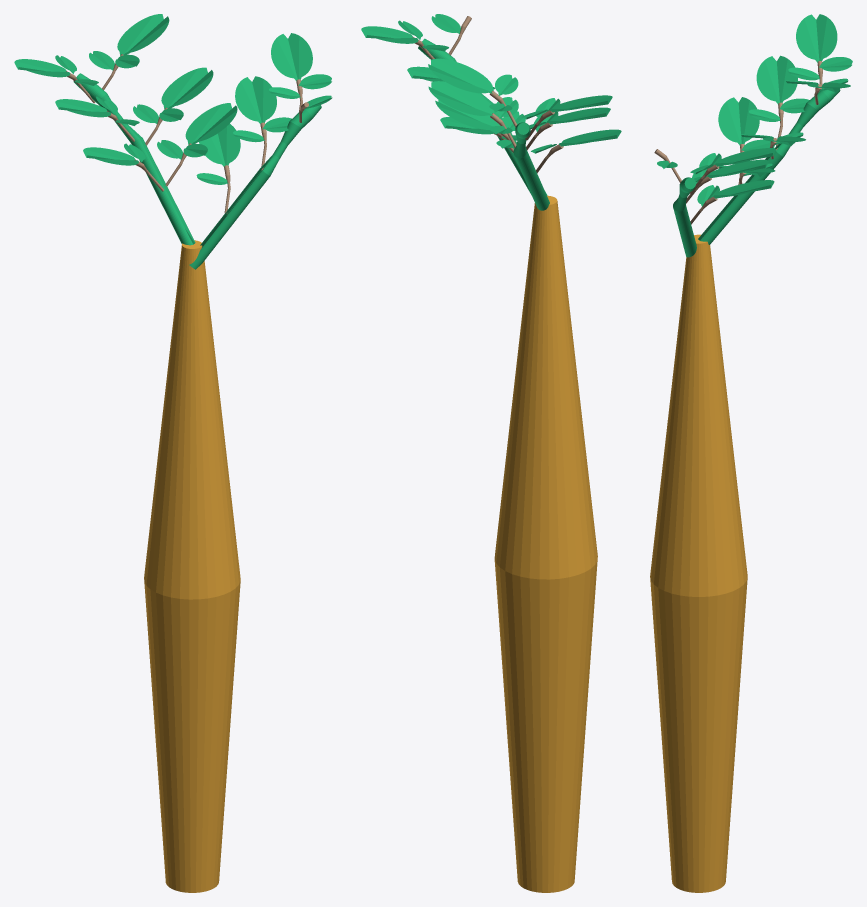
The model's file is wortel2.fbx.
The picture shows the model from 3 angles, left to right: view 1: azimuth 30°, elevation 25°; view 2: azimuth 150°, elevation 25°; view 3: azimuth 270°, elevation 25°; orthographic projection. The views are drawn at different scales.
Visible parts, largest first — view 1: Cylinder.799, Cylinder.760, Cylinder.761, Circle.2104, Circle.2099, Circle.2158, Circle.2157, Circle.2153, Circle.2098, Circle.2136, Circle.2142, Circle.2137; view 2: Cylinder.799, Circle.2158, Circle.2157, Cylinder.761, Circle.2153, Circle.2104, Cylinder.760, Circle.2136, Circle.2142, Circle.2137; view 3: Cylinder.799, Cylinder.761, Circle.2142, Circle.2137, Circle.2136, Cylinder.760, Circle.2104, Circle.2099, Circle.2098.
Boxes of the visible parts, left/top/right/bottom form: Cylinder.799: left=144, top=240, right=240, bottom=892; Cylinder.760: left=189, top=105, right=321, bottom=269; Cylinder.761: left=73, top=73, right=195, bottom=245; Circle.2104: left=271, top=33, right=312, bottom=81; Circle.2099: left=235, top=76, right=276, bottom=124; Circle.2158: left=117, top=14, right=169, bottom=55; Circle.2157: left=161, top=67, right=213, bottom=109; Circle.2153: left=185, top=103, right=237, bottom=144; Circle.2098: left=199, top=123, right=240, bottom=167; Circle.2136: left=83, top=147, right=138, bottom=165; Circle.2142: left=14, top=59, right=70, bottom=77; Circle.2137: left=55, top=99, right=110, bottom=117; Cylinder.799: left=494, top=195, right=597, bottom=892; Circle.2158: left=428, top=58, right=493, bottom=93; Circle.2157: left=428, top=81, right=494, bottom=116; Cylinder.761: left=513, top=122, right=549, bottom=210; Circle.2153: left=435, top=100, right=500, bottom=129; Circle.2104: left=361, top=26, right=418, bottom=43; Cylinder.760: left=418, top=38, right=547, bottom=195; Circle.2136: left=559, top=129, right=621, bottom=146; Circle.2142: left=550, top=95, right=612, bottom=112; Circle.2137: left=548, top=107, right=610, bottom=124; Cylinder.799: left=650, top=234, right=747, bottom=892; Cylinder.761: left=698, top=89, right=840, bottom=244; Circle.2142: left=796, top=14, right=837, bottom=62; Circle.2137: left=756, top=55, right=797, bottom=104; Circle.2136: left=718, top=97, right=759, bottom=145; Cylinder.760: left=673, top=177, right=696, bottom=257; Circle.2104: left=715, top=148, right=775, bottom=166; Circle.2099: left=708, top=159, right=768, bottom=178; Circle.2098: left=713, top=180, right=774, bottom=198.
Bounding box in the file's own units: 37.32 × 111 × 25.05.
